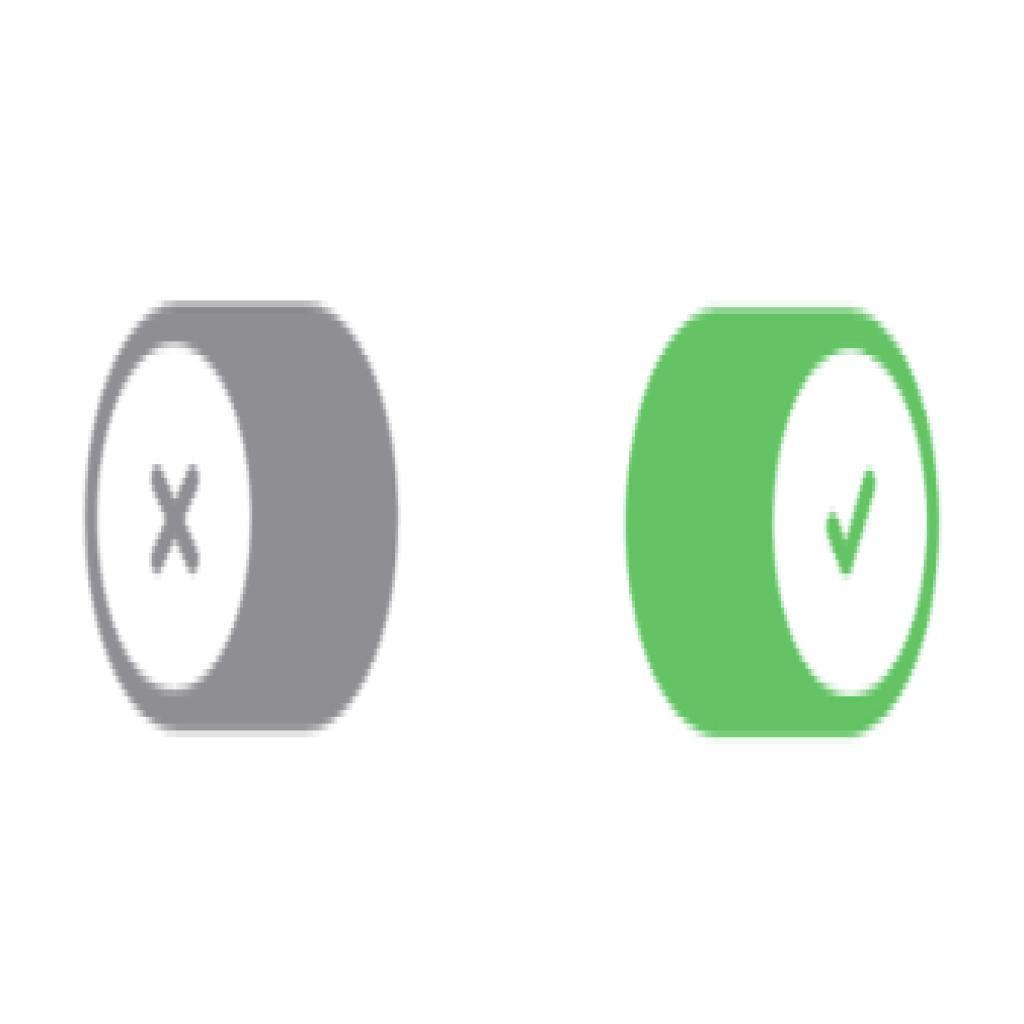switch: (624, 309, 939, 741), (85, 304, 400, 731)
